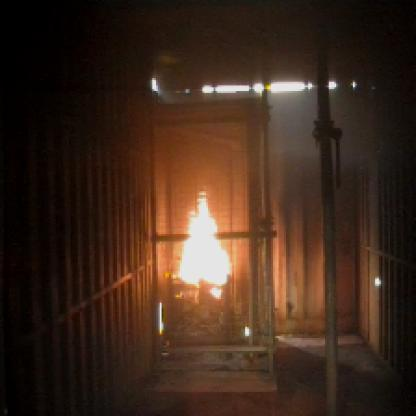Fire: (173, 195, 234, 297)
